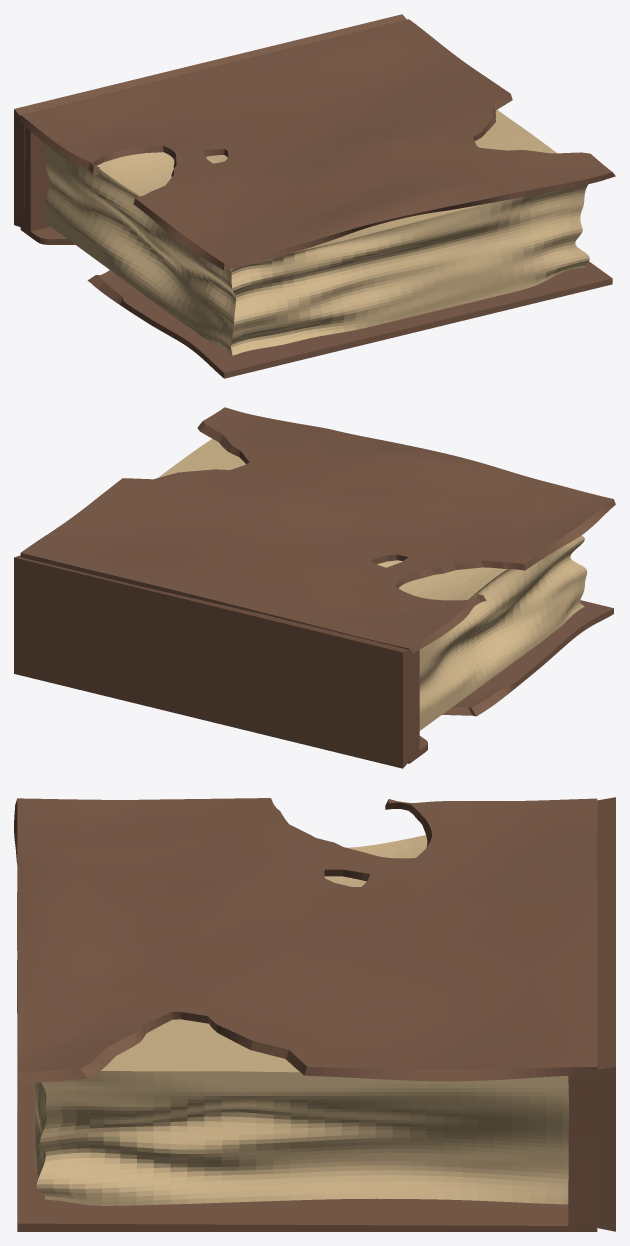
File: BookModel.fbx
3 views of the same model, one above another, from view 1: azimuth 30°, elevation 25°; view 2: azimuth 150°, elevation 25°; view 3: azimuth 270°, elevation 25° (orthographic). The views are drawn at different scales.
Visible parts, largest first — view 1: Cube, Cube.001, Cube.002; view 2: Cube, Cube.002, Cube.001; view 3: Cube, Cube.001, Cube.002.
Boxes of the visible parts, x1,y1,x2,y2 form: Cube: [20, 19, 615, 378]; Cube.001: [46, 110, 589, 355]; Cube.002: [14, 14, 406, 226]; Cube: [20, 407, 615, 763]; Cube.002: [14, 555, 414, 768]; Cube.001: [158, 438, 587, 730]; Cube: [14, 798, 597, 1231]; Cube.001: [34, 835, 568, 1205]; Cube.002: [597, 797, 615, 1231].
Bounding box in the file's own units: 158 × 47.36 × 145.
